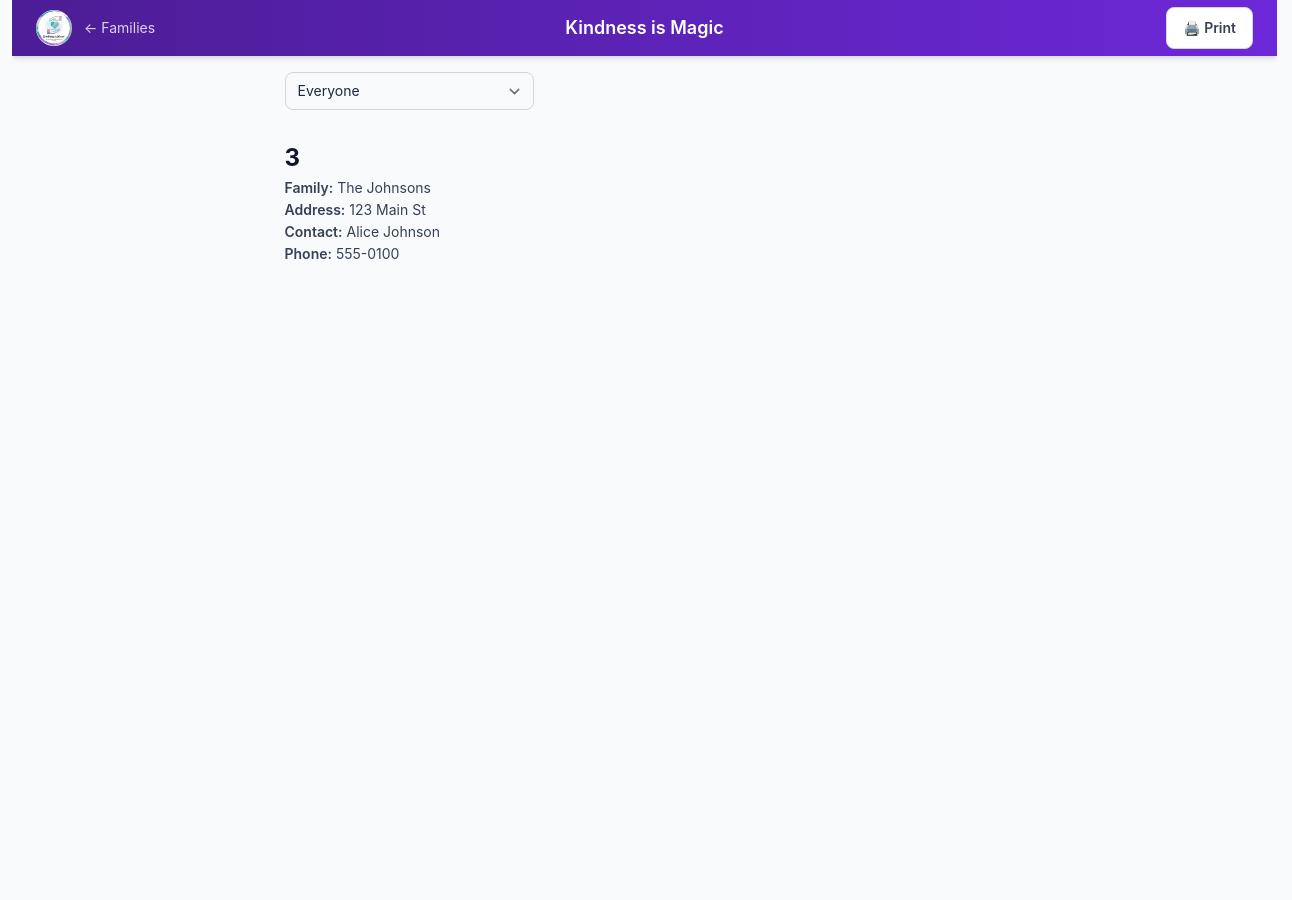
AdminDeliverySlips › selecting 'specific person' reveals the person select, withholds the list, then filters by delivery_user_id
Check: the text "The Johnsons" is shown, box x1=337 y1=179 x2=431 y2=196
Check: the dropdown labelled "Delivery person" is not shown
Step 1. Select "Assigned (to specific person)" in the dropdown named "Scope" → (409, 91), box x1=284 y1=72 x2=534 y2=110
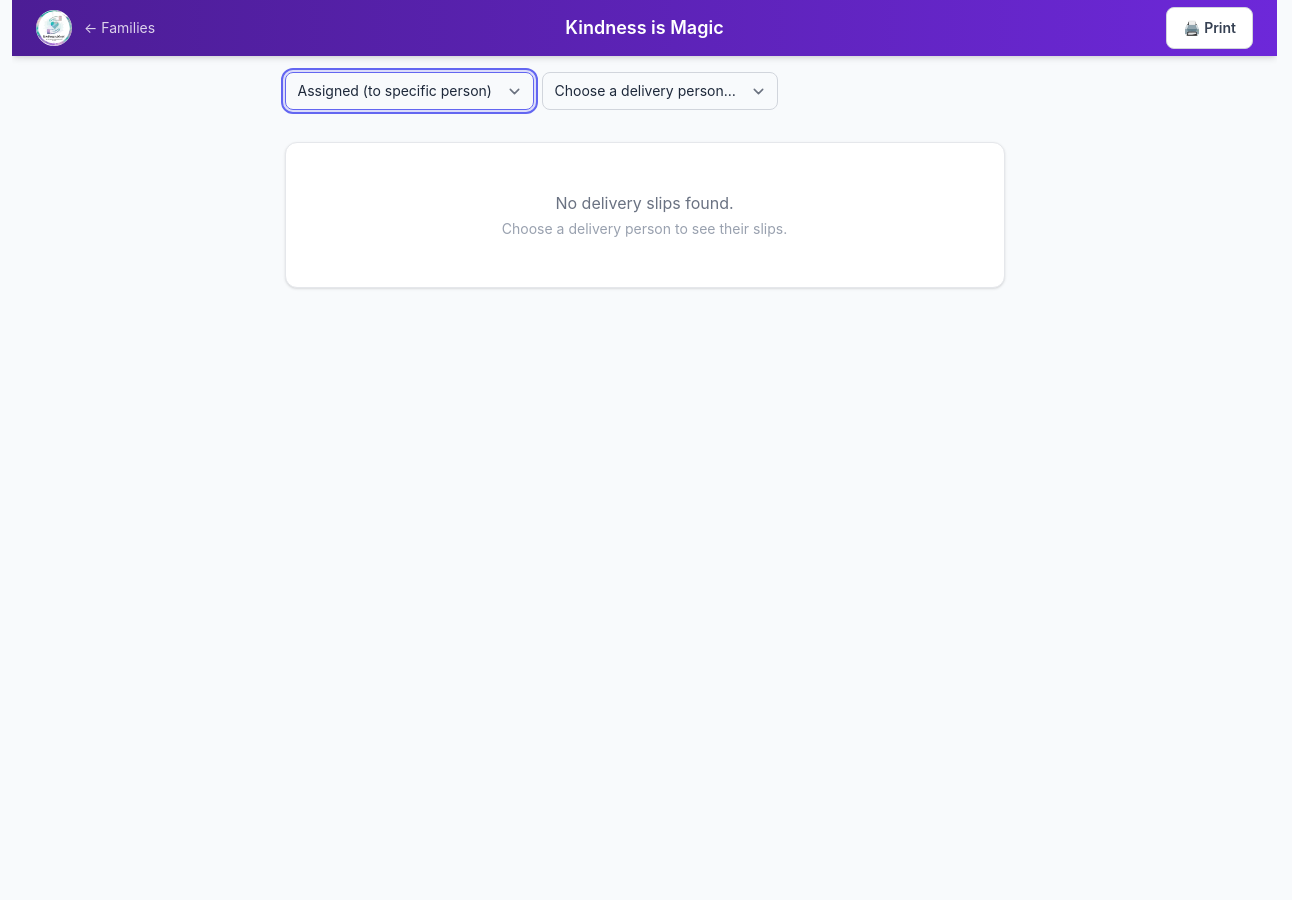
Check: the text "The Johnsons" is gone
Check: the text "Choose a delivery person to see their slips." is shown, box x1=502 y1=220 x2=787 y2=237
Step 2. Select "Dan Delivery" in the dropdown named "Delivery person" → (660, 91), box x1=542 y1=72 x2=778 y2=110
(page scrolled)
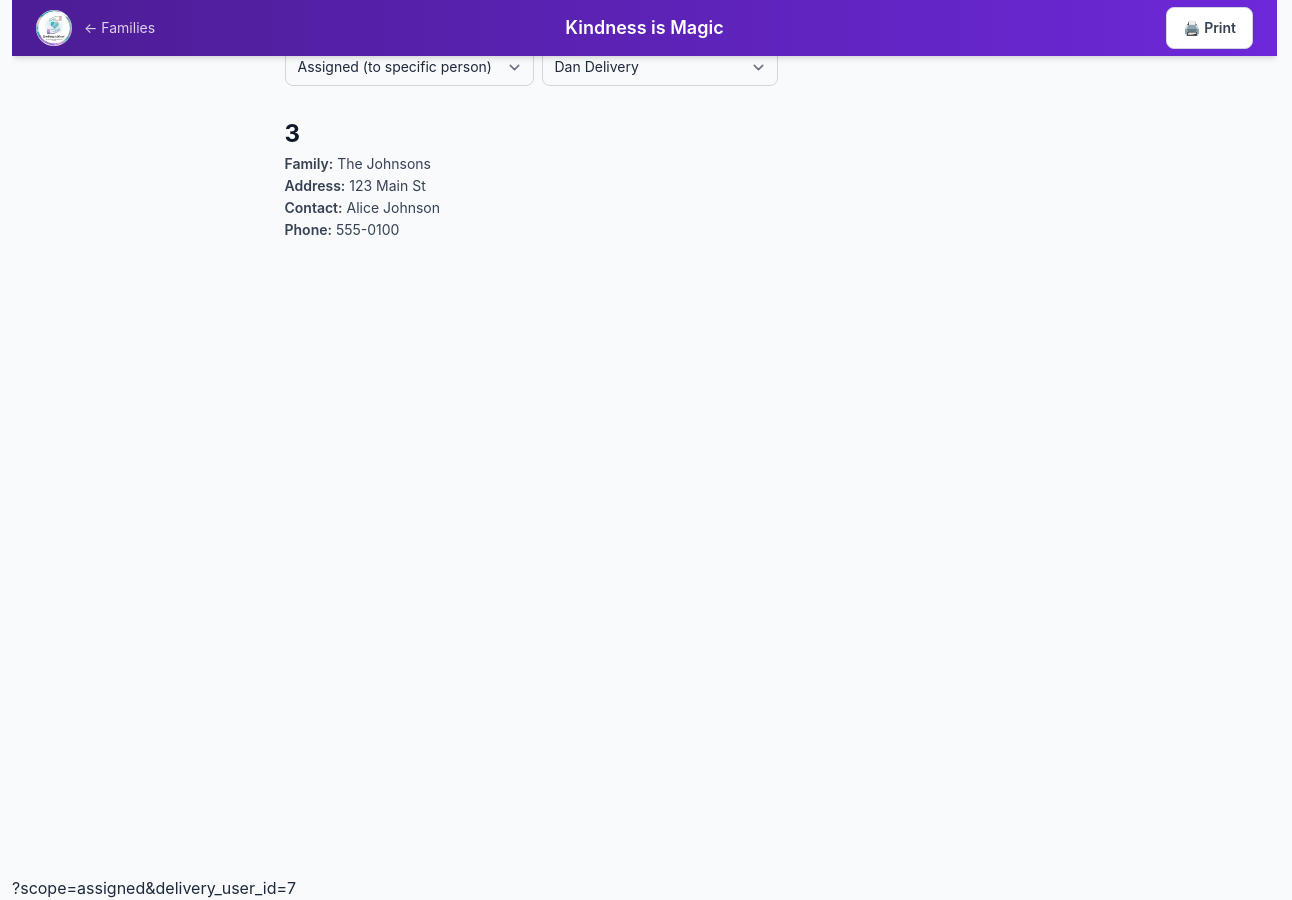
Check: the text with test id "url-probe" reads "?scope=assigned&delivery_user_id=7", box x1=12 y1=878 x2=296 y2=898
